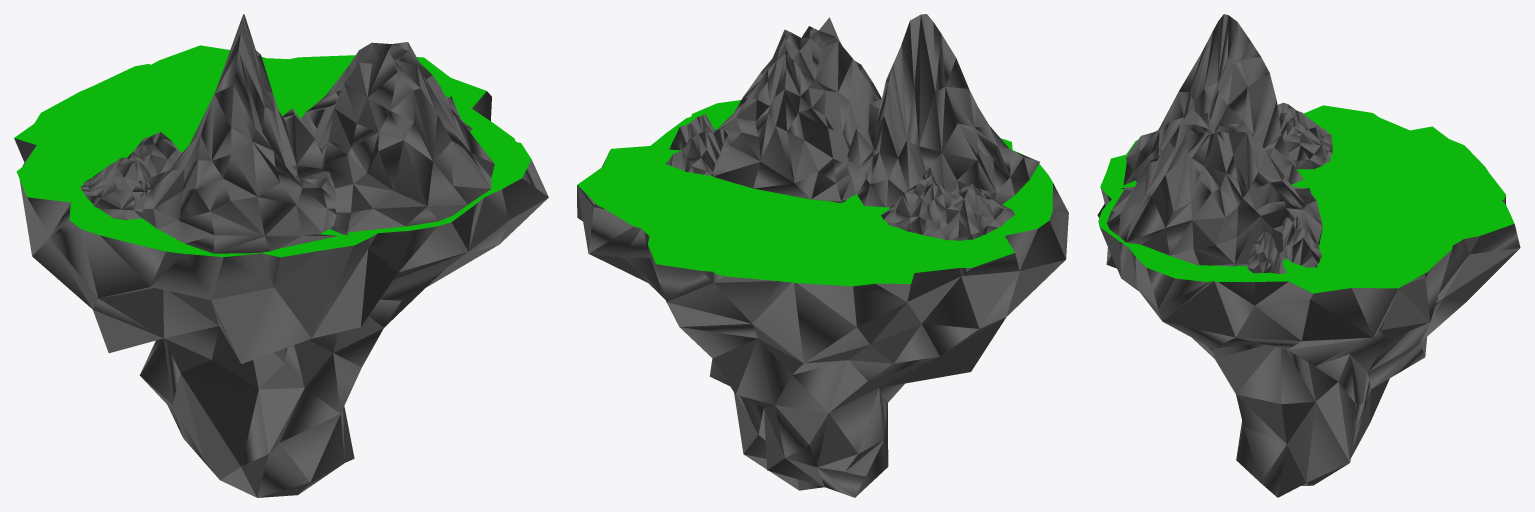
Rendered from Island.fbx.
3 renders of one model, left to right at view 1: azimuth 30°, elevation 25°; view 2: azimuth 150°, elevation 25°; view 3: azimuth 270°, elevation 25°, orthographic. The views are drawn at different scales.
Visible parts, largest first — view 1: Island; view 2: Island; view 3: Island.
Boxes of the visible parts, x1,y1,x2,y2 form: Island: (14,14,548,497); Island: (577,14,1068,497); Island: (1097,14,1520,497).
Bounding box in the file's own units: 4434 × 4785 × 4178.
